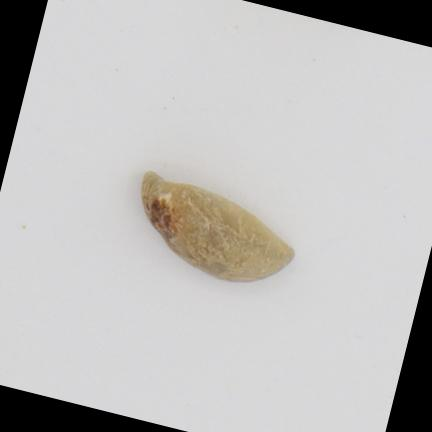shell: (141, 172, 293, 281)
